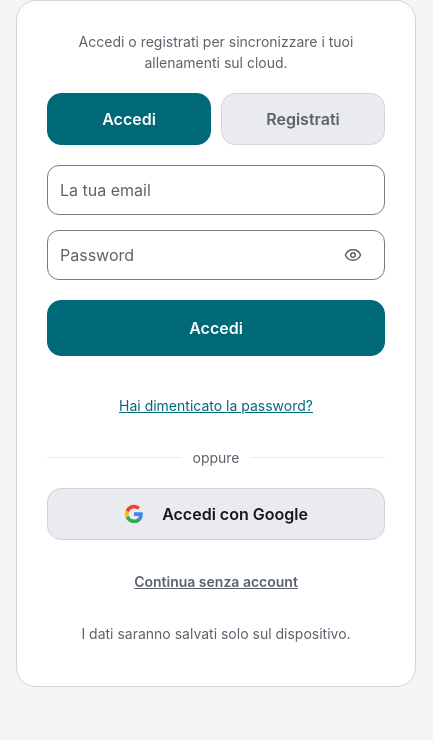
Test: LoginBox guest Google authentication › sanitizes email sign-in failure without exposing Firebase provider details
Type "existing@example.com" into the field labelled "email" at x=216, y=190, box [47,165,385,215]
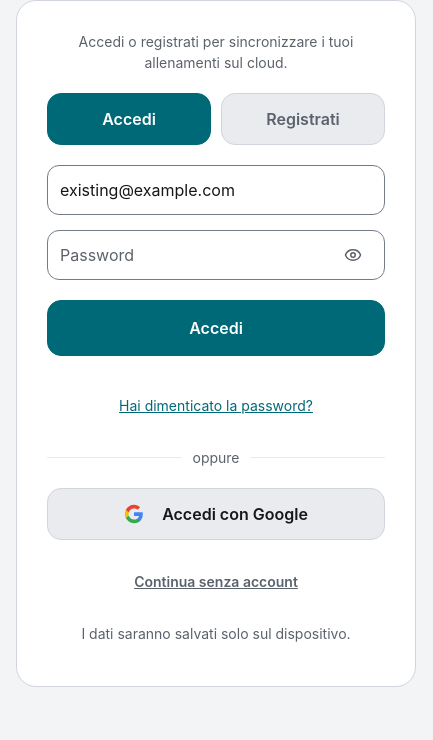
Type "WrongPassword1!" into the password field labelled "Password" at x=216, y=255, box [47,230,385,280]
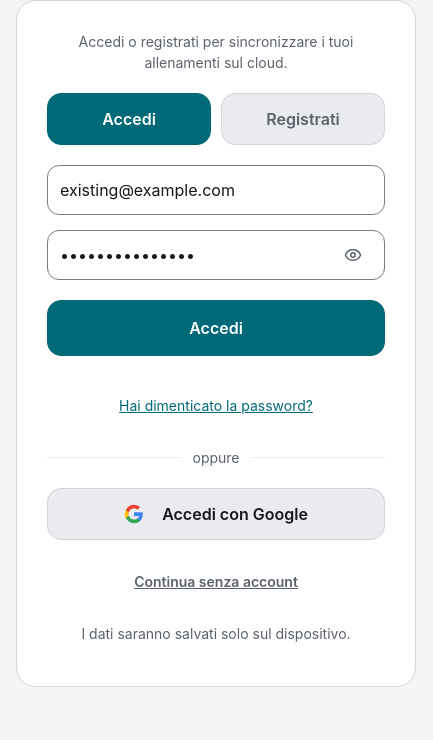
Click the 2nd button "Accedi" at x=216, y=328, box [47,300,385,356]
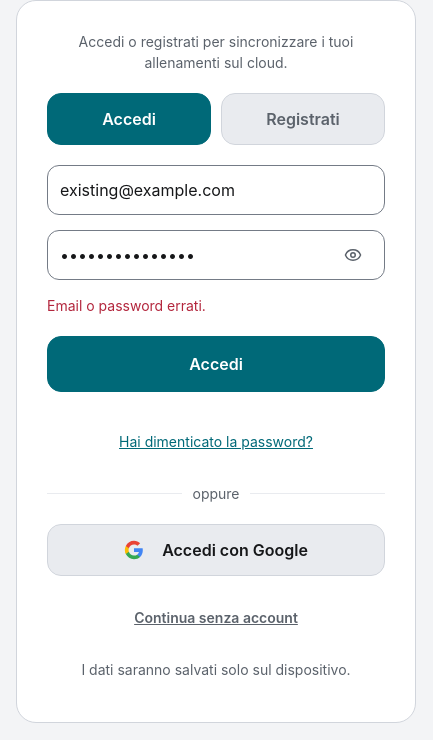
Expected: the message reads "Email o password errati.", [47,297,206,314]
